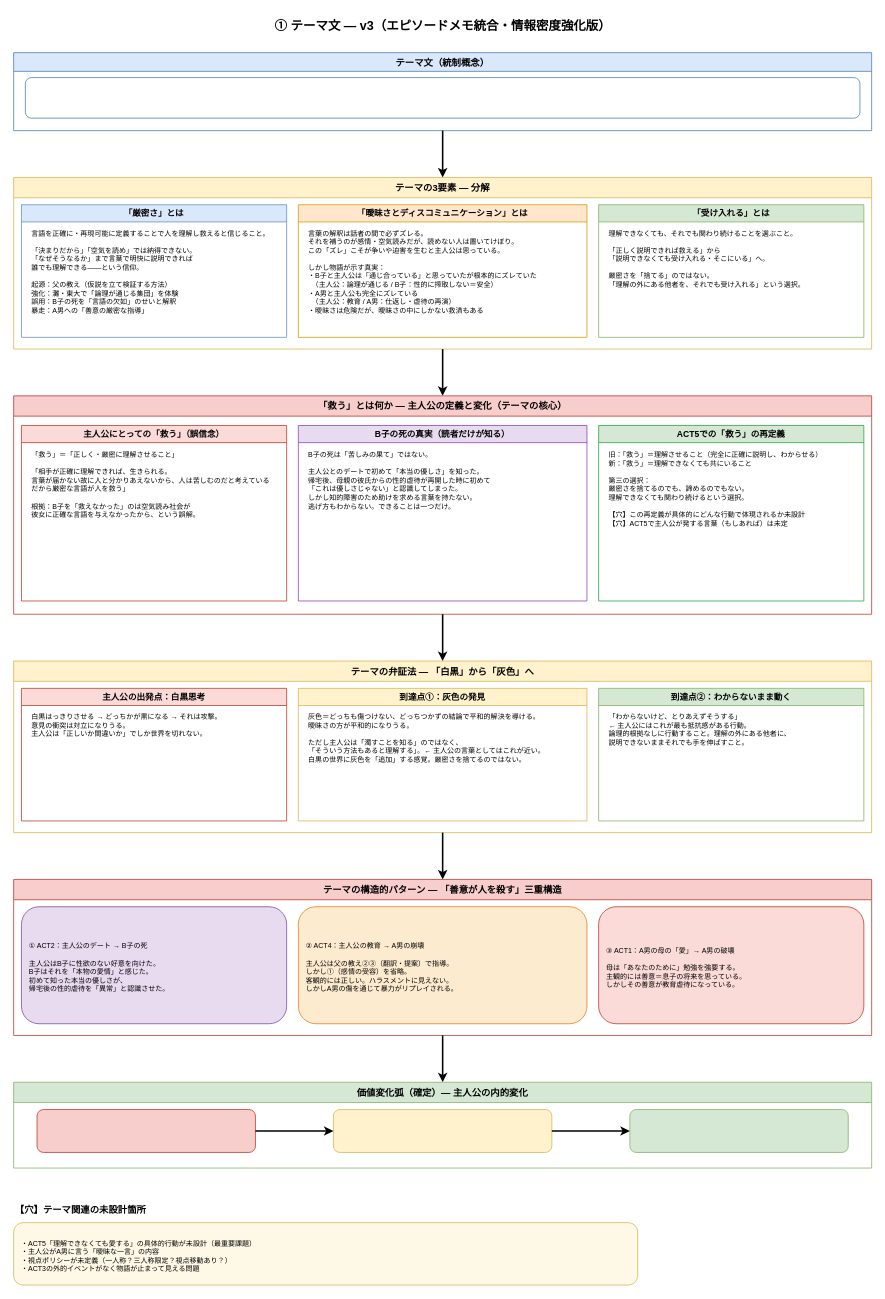
Image size: 885x1299. Some labels were removed from this diagram. Here are the shapes that lost their labels. From the top down, the centre of each, then its label:
pixel 442 97: 「厳密に定義された言葉」こそが人を救うと考えた主人公が、 曖昧さとディスコミュニケーションだらけの人間社会を、受け入れれるようになる話
pixel 145 1130: 理解すれば救える （ACT1-3）
pixel 442 1130: 理解しても救えない （ACT4：A男崩壊）
pixel 738 1130: 理解できなくても寄り添える （ACT5：第三の選択）
